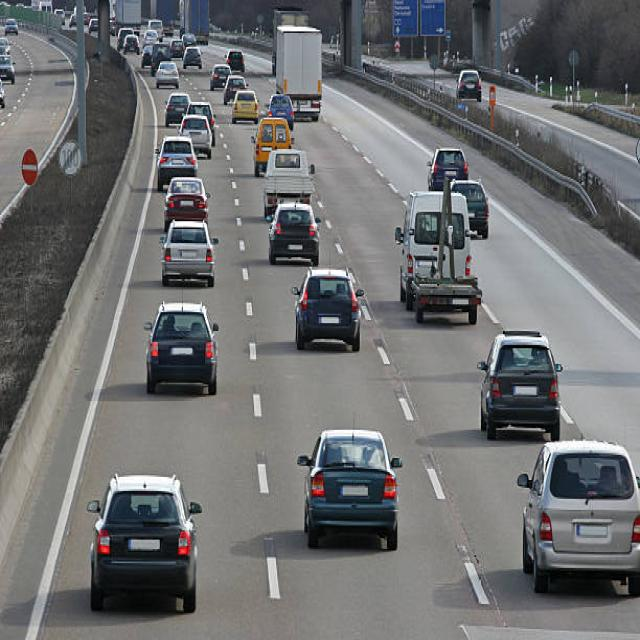16-Wheelers: (394, 188, 482, 325)
Car: (517, 438, 639, 596), (86, 472, 202, 613), (296, 428, 402, 551), (476, 328, 562, 441), (144, 301, 218, 395), (292, 265, 364, 351), (159, 218, 219, 287), (268, 201, 321, 265), (449, 179, 488, 238), (426, 146, 468, 190), (456, 69, 481, 100)
Truck: (274, 23, 322, 121)
